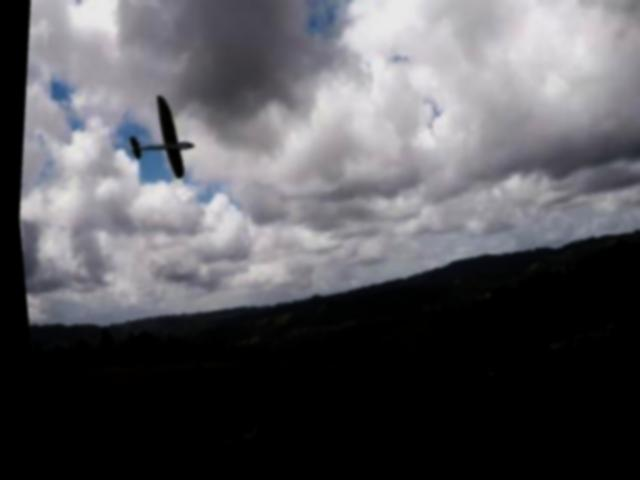uav: (120, 88, 201, 189)
